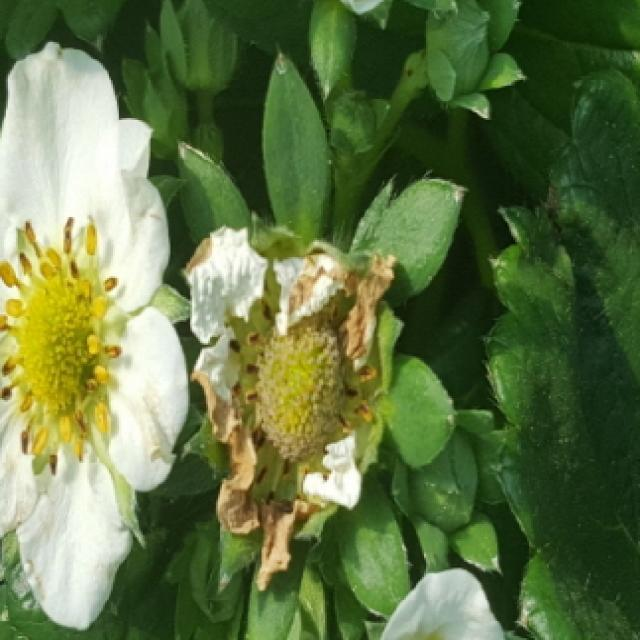Blossom Blight: (223, 283, 382, 509), (0, 213, 124, 479)
